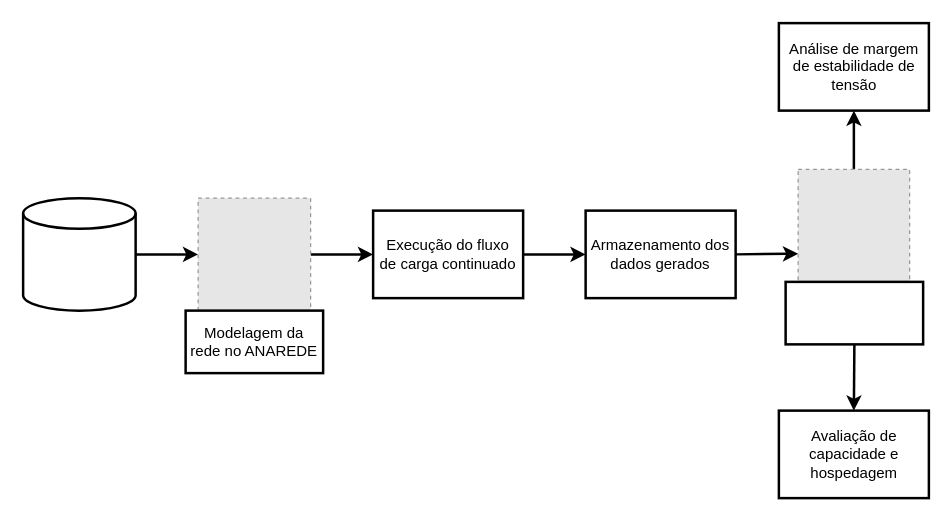
This 951x520 diagram has some shape labels left out. Grey dashed boxes stand in for pictures. Each missing label, with the box of its shape:
Algoritmos de análise em linguagem Python: (784, 280, 924, 345)
Dados de barras que compõem o SIN: (21, 196, 136, 311)
